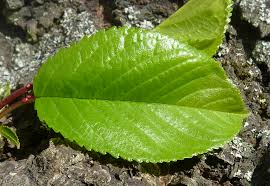healthy: (29, 32, 253, 168)
